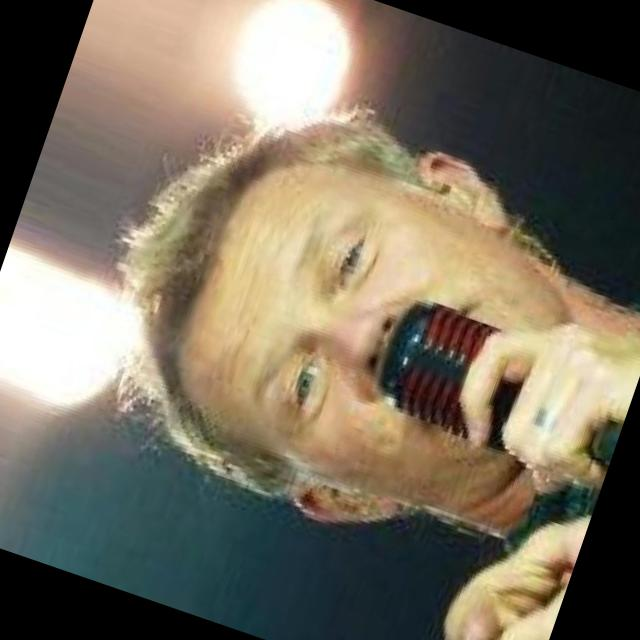bareface: (96, 115, 634, 560)
